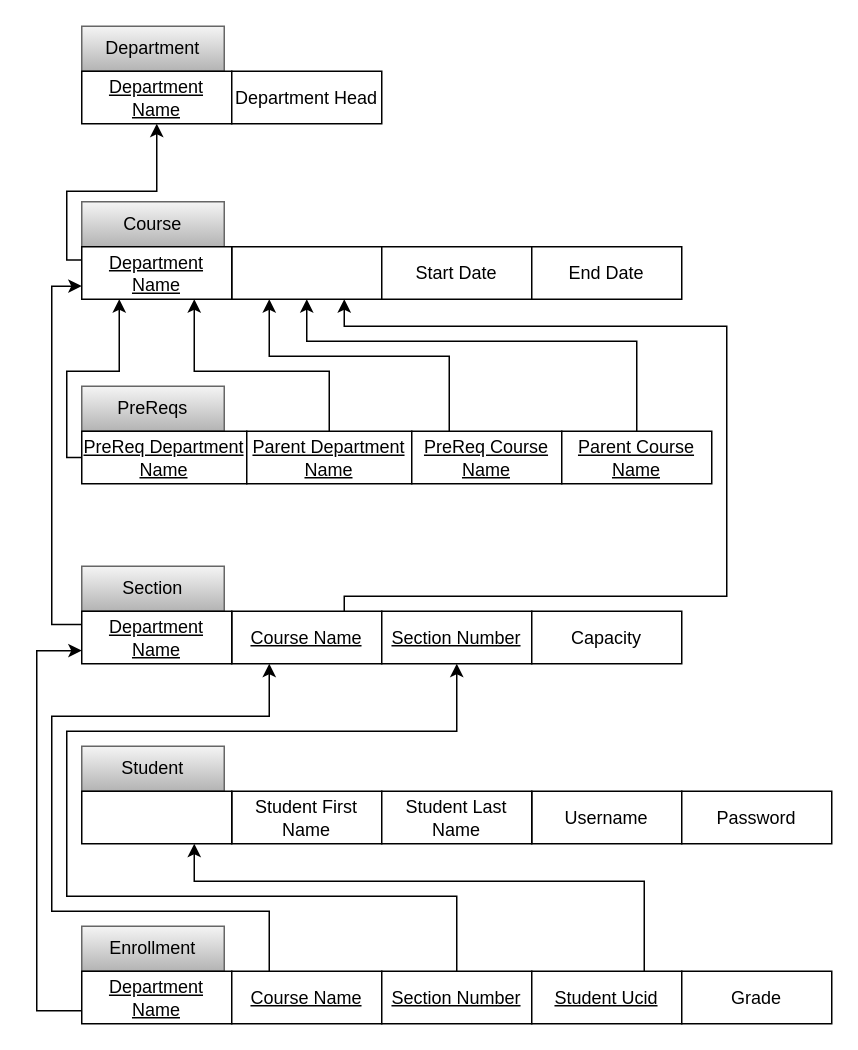
Some shapes in this 858 by 1050 pixel diagram are drawn without their labels. Here are the shapes that lost their labels. From the top down, the centre of each, then its label:
At [306,272]: "Name".
At [156,817]: "UCID".
